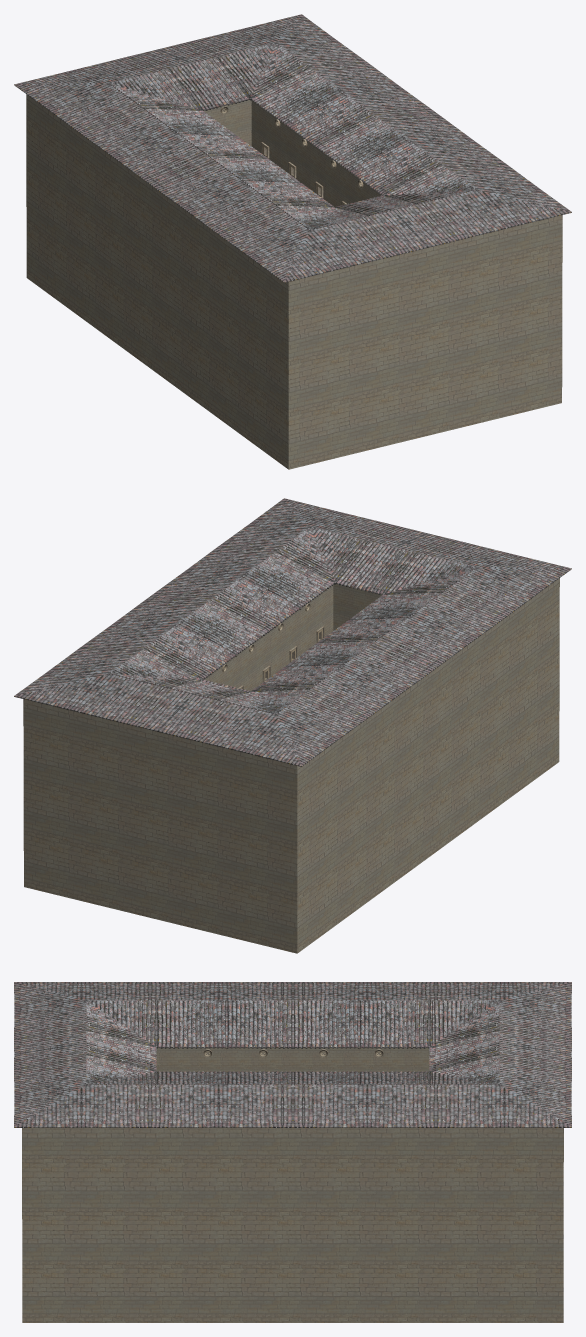
Rendered from Sponza.FBX.
The picture shows the model from 3 angles, top to bottom: view 1: azimuth 30°, elevation 25°; view 2: azimuth 150°, elevation 25°; view 3: azimuth 270°, elevation 25°; orthographic projection. The views are drawn at different scales.
Visible parts, largest first — view 1: Support_Walls, Support_Roof, Roof, BrickWall_A; view 2: Support_Walls, Support_Roof, Roof, BrickWall_A; view 3: Support_Walls, Support_Roof, Roof, BrickWall_A.
Boxes of the visible parts, x1=… form: Support_Walls: x1=26, y1=94, x2=562, y2=469; Support_Roof: x1=14, y1=14, x2=571, y2=282; Roof: x1=110, y1=43, x2=475, y2=230; BrickWall_A: x1=204, y1=99, x2=382, y2=207; Support_Walls: x1=23, y1=578, x2=559, y2=953; Support_Roof: x1=14, y1=498, x2=571, y2=766; Roof: x1=110, y1=527, x2=475, y2=714; BrickWall_A: x1=203, y1=583, x2=381, y2=691; Support_Walls: x1=22, y1=1127, x2=563, y2=1322; Support_Roof: x1=14, y1=982, x2=571, y2=1127; Roof: x1=86, y1=1000, x2=499, y2=1084; BrickWall_A: x1=156, y1=1047, x2=429, y2=1072.
Size of the model in its own units: 2034 by 1383 by 3308.
